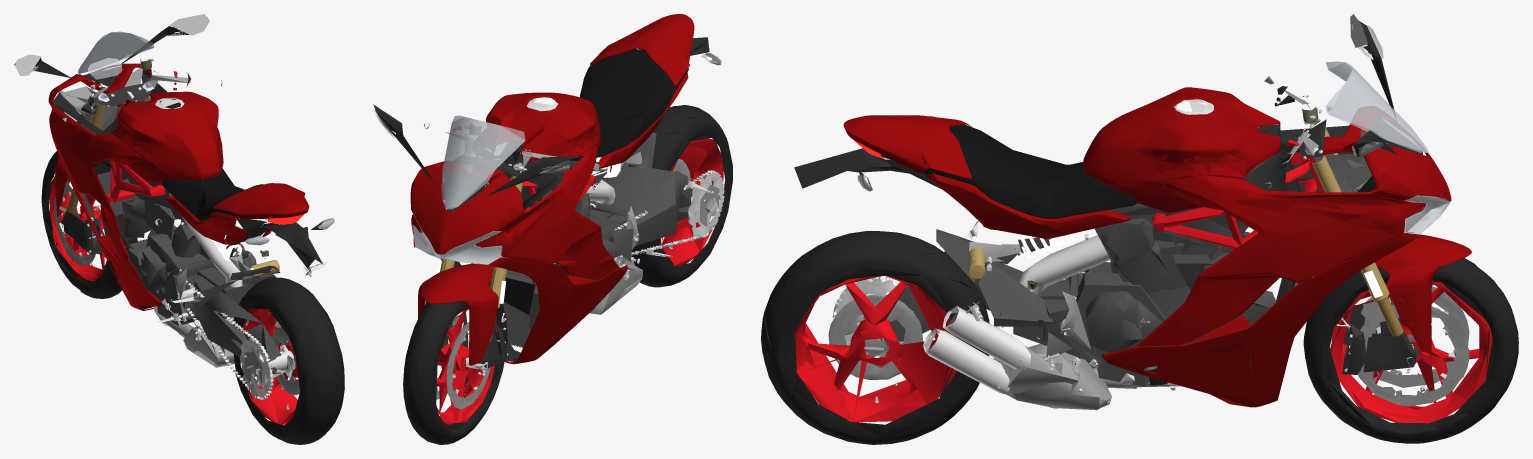
The model's file is moto-fit.glb.
3 views of the same model, side by side, from view 1: azimuth 30°, elevation 25°; view 2: azimuth 150°, elevation 25°; view 3: azimuth 270°, elevation 25° (orthographic). The views are drawn at different scales.
Parts seen in each view (by area): view 1: sb_carpaint_body_front_001_carpaint_red_0, sb_carpaint_body_front_007_metal_black_0, sb_carpaint_body_front_003_tire_sw_0, sb_carpaint_body_front_004_chrome_0 (×3), sb_carpaint_body_front_002_paintRed_0, far_carpaint_body_front_001_carpaint_red_0, sb_carpaint_body_front_005_plastic_rough_grey_0, sb_carpaint_body_front_009_metal_rough_plus_0, sb_carpaint_body_front_026_glass_clear_0, sb_carpaint_body_front_013_leather_black_0, far_carpaint_body_front_026_glass_clear_0, sb_carpaint_body_front_010_metal_frey_0 (+11 smaller); view 2: sb_carpaint_body_front_001_carpaint_red_0, sb_carpaint_body_front_003_tire_sw_0, sb_carpaint_body_front_007_metal_black_0, sb_carpaint_body_front_026_glass_clear_0, far_carpaint_body_front_026_glass_clear_0, far_carpaint_body_front_001_carpaint_red_0, sb_carpaint_body_front_002_paintRed_0, sb_carpaint_body_front_005_plastic_rough_grey_0, far_carpaint_body_front_013_leather_black_0, sb_carpaint_body_front_004_chrome_0 (×2), sb_carpaint_body_front_013_leather_black_0, far_carpaint_body_front_002_paintRed_0 (+7 smaller); view 3: sb_carpaint_body_front_001_carpaint_red_0, sb_carpaint_body_front_003_tire_sw_0, sb_carpaint_body_front_007_metal_black_0, sb_carpaint_body_front_002_paintRed_0, far_carpaint_body_front_001_carpaint_red_0, far_carpaint_body_front_003_tire_sw_0, sb_carpaint_body_front_013_leather_black_0, far_carpaint_body_front_002_paintRed_0, sb_carpaint_body_front_005_plastic_rough_grey_0, sb_carpaint_body_front_026_glass_clear_0, sb_carpaint_body_front_006_brakes_0, sb_carpaint_body_front_020_metal_rough_0 (+14 smaller).
Part boxes in pixels (x1=…): sb_carpaint_body_front_001_carpaint_red_0: x1=48, y1=63, x2=309, y2=310; sb_carpaint_body_front_007_metal_black_0: x1=97, y1=169, x2=281, y2=373; sb_carpaint_body_front_003_tire_sw_0: x1=41, y1=151, x2=344, y2=444; sb_carpaint_body_front_004_chrome_0 (×3): x1=59, y1=84, x2=327, y2=399; sb_carpaint_body_front_002_paintRed_0: x1=50, y1=103, x2=298, y2=424; far_carpaint_body_front_001_carpaint_red_0: x1=50, y1=64, x2=308, y2=310; sb_carpaint_body_front_005_plastic_rough_grey_0: x1=14, y1=17, x2=323, y2=268; sb_carpaint_body_front_009_metal_rough_plus_0: x1=58, y1=68, x2=287, y2=384; sb_carpaint_body_front_026_glass_clear_0: x1=16, y1=26, x2=172, y2=114; sb_carpaint_body_front_013_leather_black_0: x1=162, y1=168, x2=263, y2=220; far_carpaint_body_front_026_glass_clear_0: x1=64, y1=32, x2=153, y2=114; sb_carpaint_body_front_010_metal_frey_0: x1=61, y1=83, x2=239, y2=256; sb_carpaint_body_front_001_carpaint_red_0: x1=410, y1=14, x2=694, y2=365; sb_carpaint_body_front_003_tire_sw_0: x1=403, y1=105, x2=732, y2=444; sb_carpaint_body_front_007_metal_black_0: x1=470, y1=132, x2=692, y2=347; sb_carpaint_body_front_026_glass_clear_0: x1=375, y1=113, x2=577, y2=265; far_carpaint_body_front_026_glass_clear_0: x1=377, y1=116, x2=524, y2=264; far_carpaint_body_front_001_carpaint_red_0: x1=412, y1=16, x2=690, y2=362; sb_carpaint_body_front_002_paintRed_0: x1=436, y1=138, x2=723, y2=424; sb_carpaint_body_front_005_plastic_rough_grey_0: x1=373, y1=37, x2=709, y2=361; far_carpaint_body_front_013_leather_black_0: x1=582, y1=54, x2=666, y2=157; sb_carpaint_body_front_004_chrome_0 (×2): x1=425, y1=99, x2=724, y2=395; sb_carpaint_body_front_013_leather_black_0: x1=580, y1=49, x2=688, y2=157; far_carpaint_body_front_002_paintRed_0: x1=440, y1=145, x2=722, y2=422; sb_carpaint_body_front_001_carpaint_red_0: x1=843, y1=87, x2=1471, y2=407; sb_carpaint_body_front_003_tire_sw_0: x1=761, y1=231, x2=1518, y2=444; sb_carpaint_body_front_007_metal_black_0: x1=884, y1=156, x2=1419, y2=386; sb_carpaint_body_front_002_paintRed_0: x1=794, y1=152, x2=1492, y2=423; far_carpaint_body_front_001_carpaint_red_0: x1=863, y1=91, x2=1450, y2=392; far_carpaint_body_front_003_tire_sw_0: x1=765, y1=232, x2=1513, y2=438; sb_carpaint_body_front_013_leather_black_0: x1=923, y1=124, x2=1137, y2=218; far_carpaint_body_front_002_paintRed_0: x1=797, y1=283, x2=1435, y2=421; sb_carpaint_body_front_005_plastic_rough_grey_0: x1=794, y1=21, x2=1422, y2=384; sb_carpaint_body_front_026_glass_clear_0: x1=1325, y1=25, x2=1451, y2=234; sb_carpaint_body_front_006_brakes_0: x1=828, y1=286, x2=1469, y2=406; sb_carpaint_body_front_020_metal_rough_0: x1=923, y1=306, x2=1030, y2=393.
Size of the model in its own units: 0.8459 by 1.14 by 2.11.
